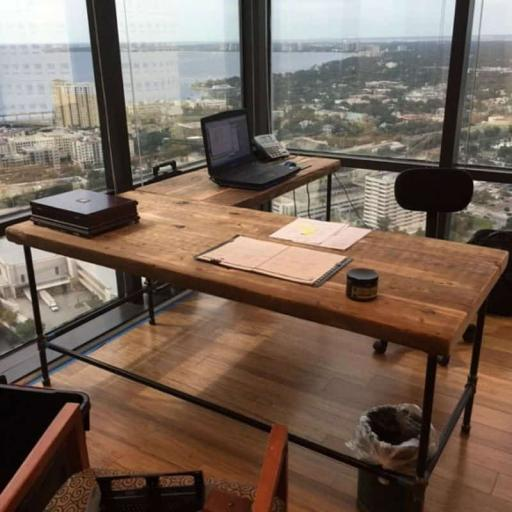chair: (0, 400, 290, 512), (371, 166, 474, 365)
desk: (4, 157, 510, 512)
